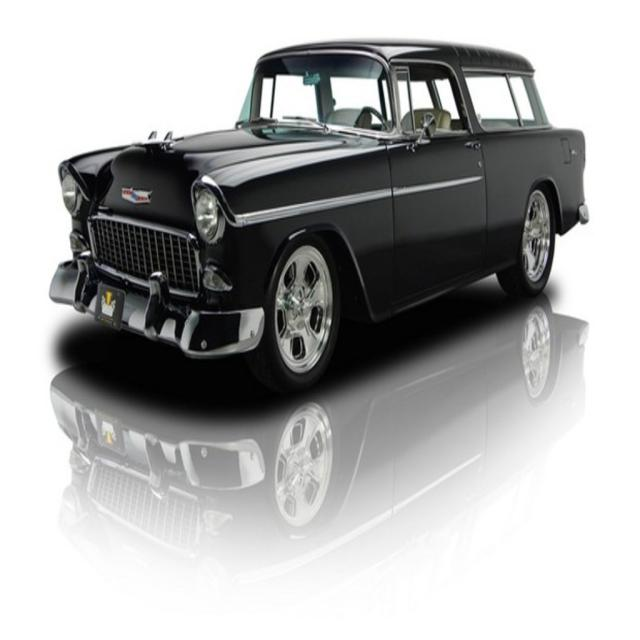car: (50, 38, 590, 381)
